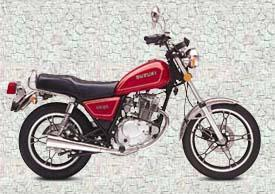motorcycle: (5, 6, 267, 184)
